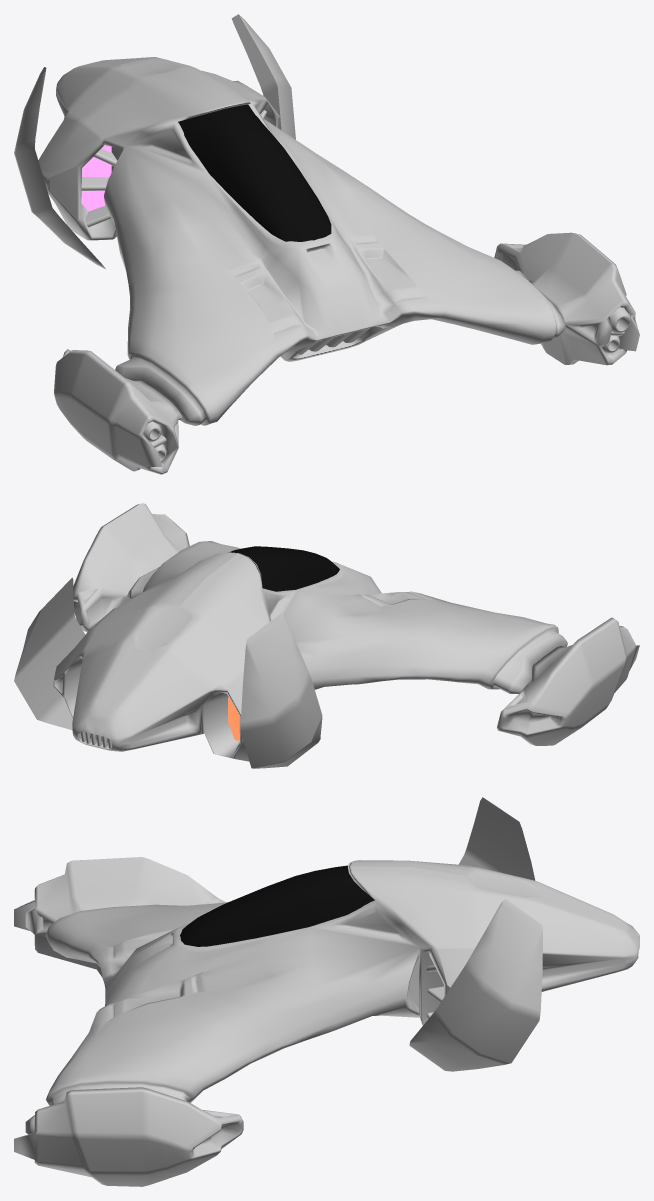
Rendered from evmislsr.fbx.
3 views of the same model, one above another, from view 1: azimuth 30°, elevation 25°; view 2: azimuth 150°, elevation 25°; view 3: azimuth 270°, elevation 25° (orthographic). The views are drawn at different scales.
Visible parts, largest first — view 1: mainbody, cockpit, launcher_l, launcher_r, wing_r, wing_l, flame_4__h; view 2: mainbody, launcher_r, wing_r, launcher_l, wing_l, cockpit; view 3: mainbody, launcher_l, wing_l, launcher_r, cockpit, wing_r.
Boxes of the visible parts, x1,y1,x2,y2 form: mainbody: (38,57,565,425); cockpit: (178,104,331,241); launcher_l: (494,232,639,365); launcher_r: (54,349,182,474); wing_r: (14,67,105,268); wing_l: (231,14,295,139); flame_4__h: (81,145,111,211); mainbody: (53,541,567,761); launcher_r: (497,617,639,745); wing_r: (240,613,322,768); launcher_l: (73,503,189,632); wing_l: (14,577,85,729); cockpit: (229,546,339,591); mainbody: (45,860,639,1105); launcher_l: (14,1087,243,1186); wing_l: (409,899,542,1071); launcher_r: (14,857,225,976); cockpit: (180,865,374,946); wing_r: (458,797,535,880).
Size of the model in its own units: 8.11 by 3.55 by 8.68.
